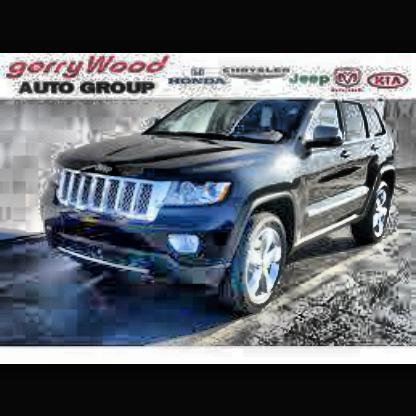Jeep Grand Cherokee SUV 2012: (43, 101, 396, 317)
